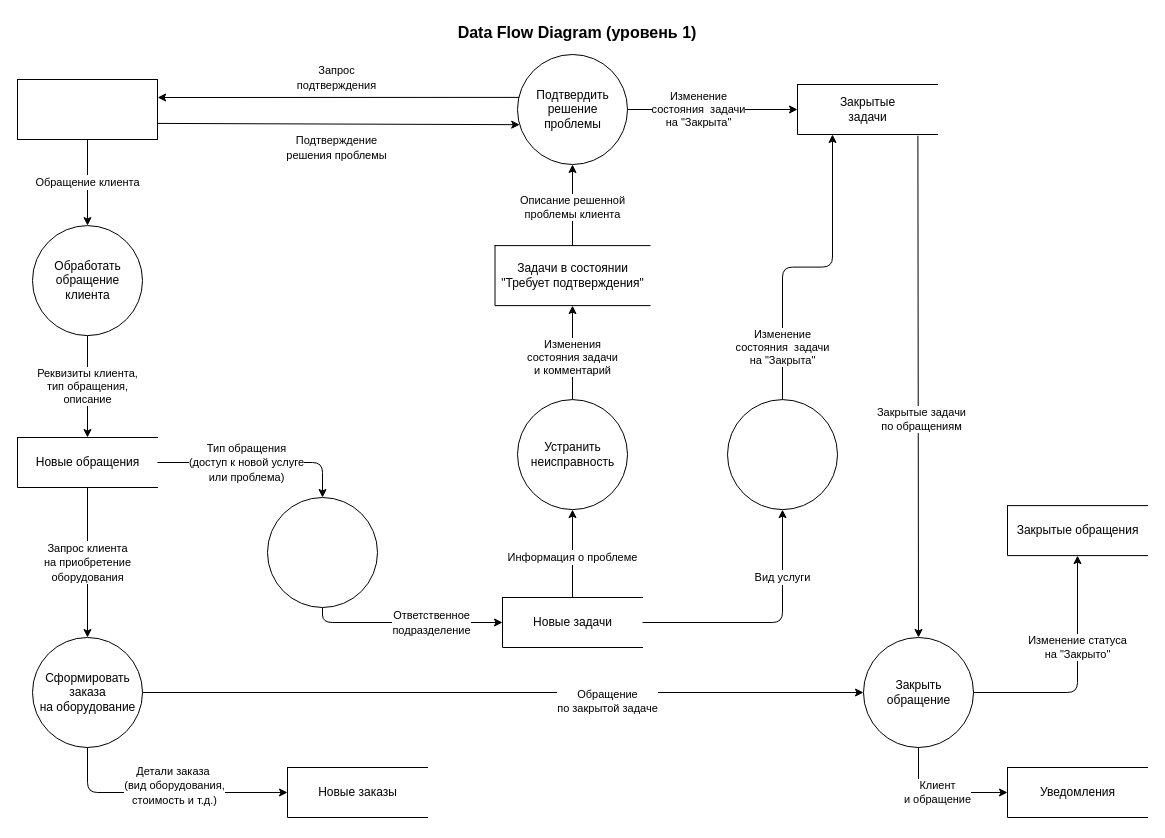
Some shapes in this 1165 by 838 pixel diagram are drawn without their labels. Each missing label, with the centre of its shape:
"Запланировать обработку обращения" goes at point (322, 552).
"Клиент" goes at point (87, 109).
"Предоставить доступ к услуге" goes at point (782, 454).
